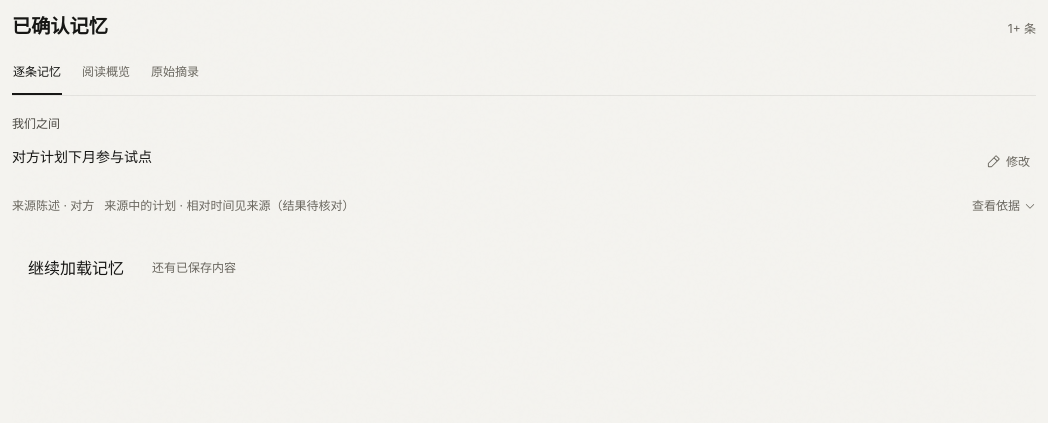
person document interactions › does not describe unreadable memory as empty in 原始摘录
Click the button "原始摘录": [175, 73] box [150,51,200,95]
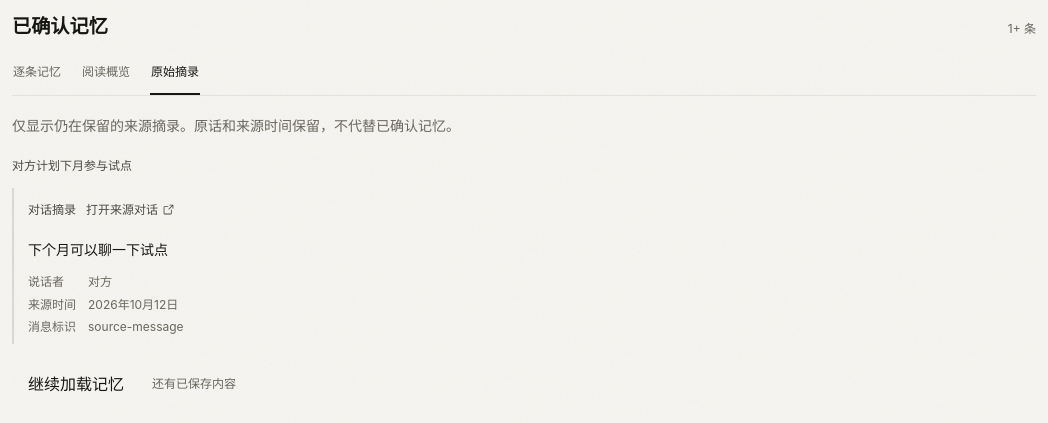
Click the button "继续加载记忆": [76, 384] box [12,362,140,406]
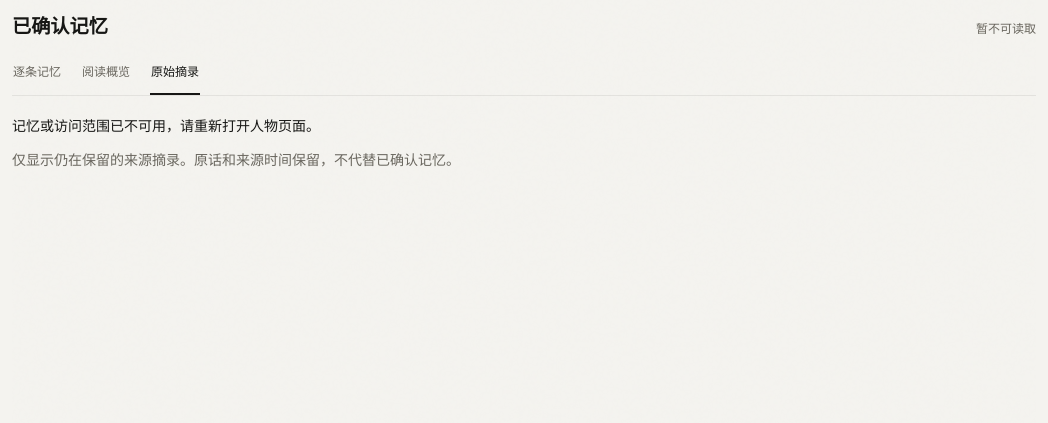
Expected: the message "记忆或访问范围已不可用，请重新打开人物页面。" is shown, [12,117,320,134]
